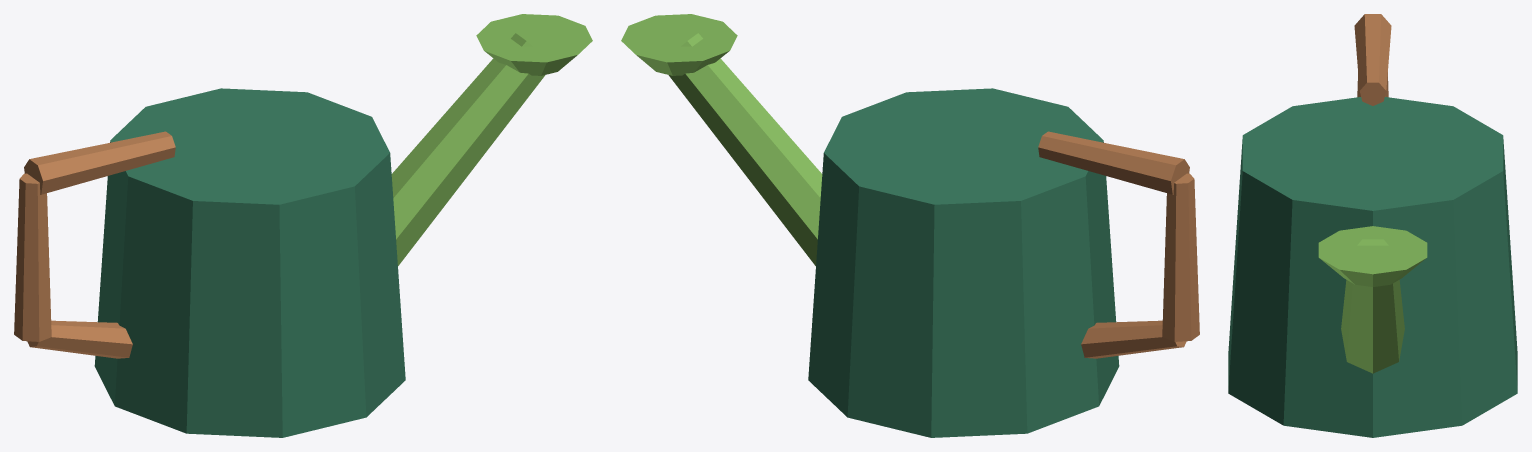
The model's file is turning-seasons-watering-can-d3795e43__2114.glb.
The picture shows the model from 3 angles, left to right: view 1: azimuth 30°, elevation 25°; view 2: azimuth 150°, elevation 25°; view 3: azimuth 270°, elevation 25°; orthographic projection. The views are drawn at different scales.
Parts seen in each view (by area): view 1: watering-can; view 2: watering-can; view 3: watering-can.
Part boxes in pixels (x1=…): watering-can: x1=14, y1=14, x2=592, y2=437; watering-can: x1=621, y1=14, x2=1199, y2=437; watering-can: x1=1228, y1=14, x2=1517, y2=437.
Bounding box in the file's own units: 0.8375 × 0.3814 × 0.3804.
